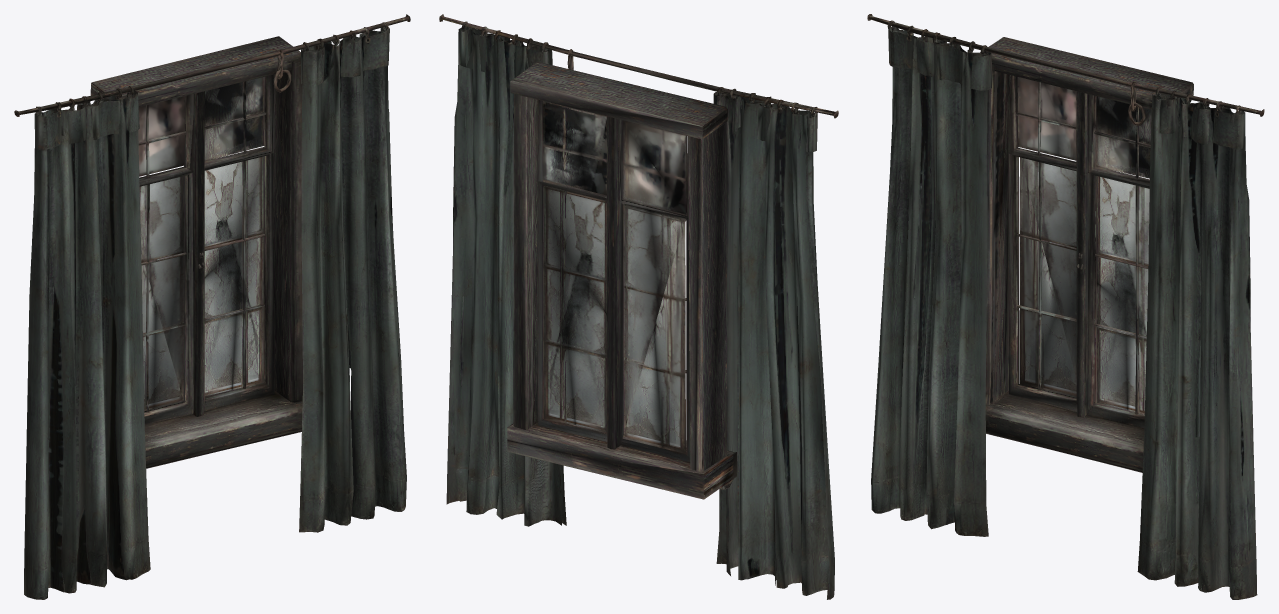
Rendered from window_curtain.fbx.
3 renders of one model, left to right at view 1: azimuth 30°, elevation 25°; view 2: azimuth 150°, elevation 25°; view 3: azimuth 330°, elevation 25°, orthographic.
Parts seen in each view (by area): view 1: window_curtain; view 2: window_curtain; view 3: window_curtain.
Boxes of the visible parts, x1,y1,x2,y2 form: window_curtain: [14, 14, 410, 599]; window_curtain: [439, 14, 838, 599]; window_curtain: [867, 14, 1264, 599].
Size of the model in its own units: 822 by 973 by 162.
1 material, 1 textured.
